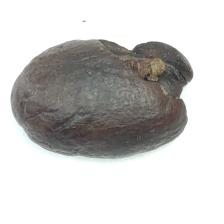NG: (81, 39, 189, 124)
